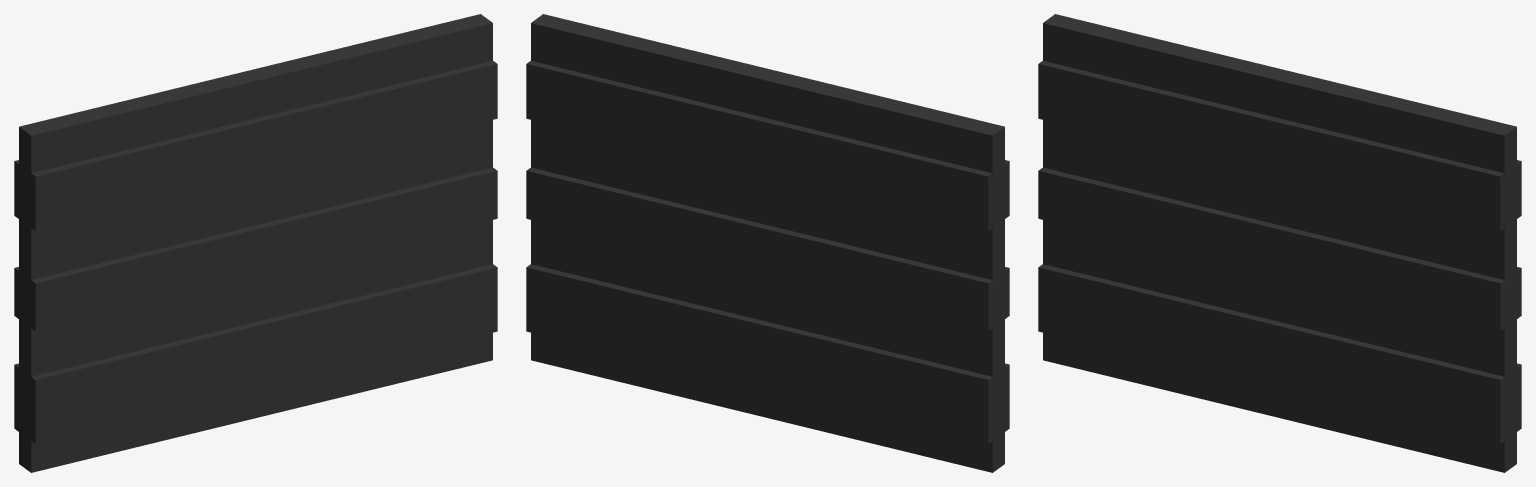
Rendered from drzwi3.obj.
3 renders of one model, left to right at view 1: azimuth 30°, elevation 25°; view 2: azimuth 150°, elevation 25°; view 3: azimuth 330°, elevation 25°, orthographic.
Parts seen in each view (by area): view 1: Drzwi.NR3_Cube.046; view 2: Drzwi.NR3_Cube.046; view 3: Drzwi.NR3_Cube.046.
Part boxes in pixels (<box>): Drzwi.NR3_Cube.046: <box>14,14,497,472</box>; Drzwi.NR3_Cube.046: <box>526,14,1009,472</box>; Drzwi.NR3_Cube.046: <box>1038,14,1521,472</box>.
Bounding box in the file's own units: 8.6 × 6 × 0.6847.
1 material, 1 textured.
